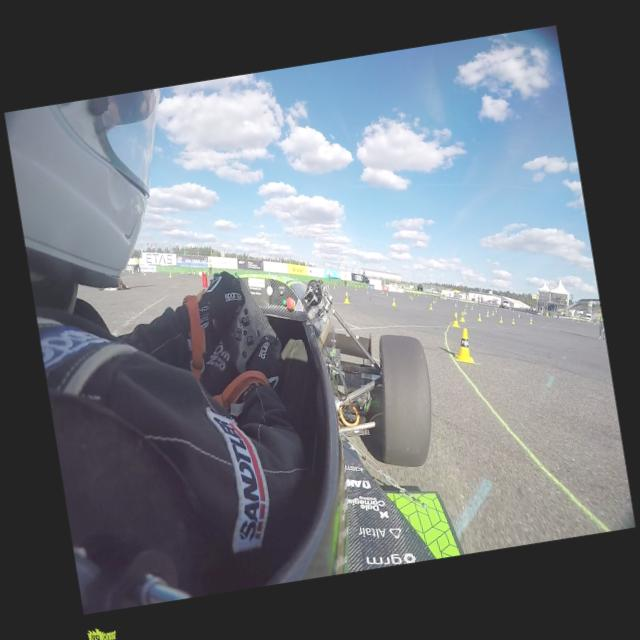yellow_cone: (451, 327, 475, 366), (450, 312, 460, 328), (342, 292, 350, 304), (460, 312, 466, 322), (390, 298, 396, 306), (476, 314, 482, 322), (486, 309, 491, 314), (498, 316, 502, 322), (428, 304, 432, 310), (511, 318, 515, 324), (491, 310, 495, 316), (432, 298, 437, 302), (169, 272, 172, 278), (464, 304, 468, 308), (354, 288, 358, 292), (530, 319, 532, 325), (143, 272, 146, 276), (530, 318, 533, 322), (454, 303, 458, 306), (486, 312, 489, 316), (386, 292, 389, 296), (333, 284, 335, 290), (471, 306, 474, 310), (366, 290, 369, 294), (464, 309, 466, 314), (518, 314, 520, 318), (180, 270, 182, 274), (382, 290, 384, 294), (182, 272, 185, 274)
